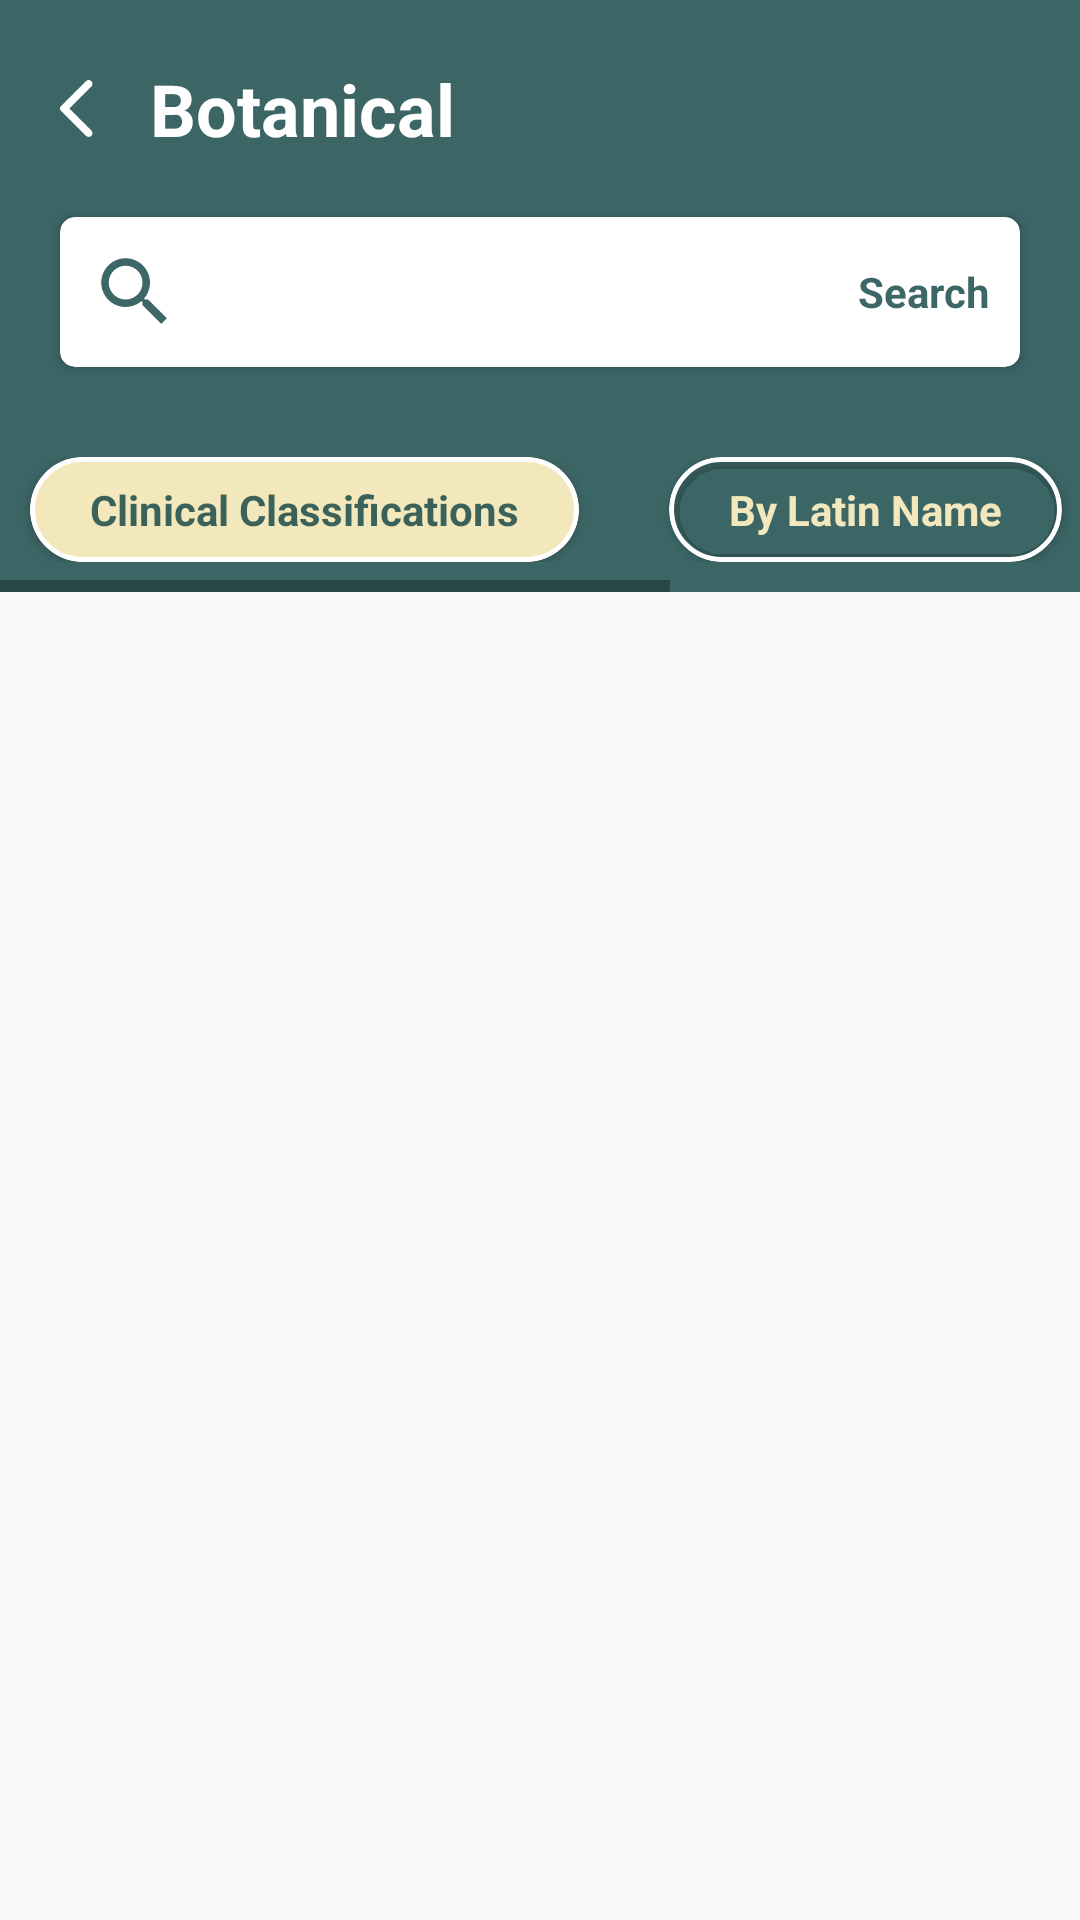

Named icons in this screenshot (1080*1920) and their bounding boxes, (x1, y1, x2, y2):
back: (60, 80, 93, 137)
search: (101, 258, 167, 324)
